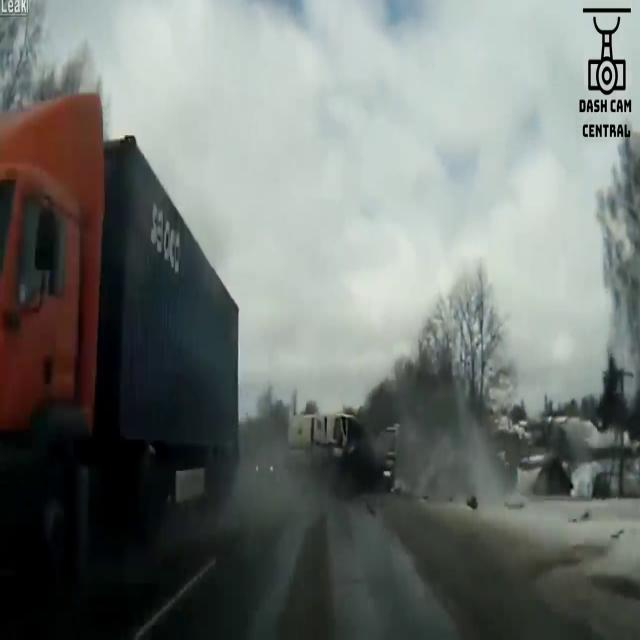accident: (272, 396, 396, 509)
